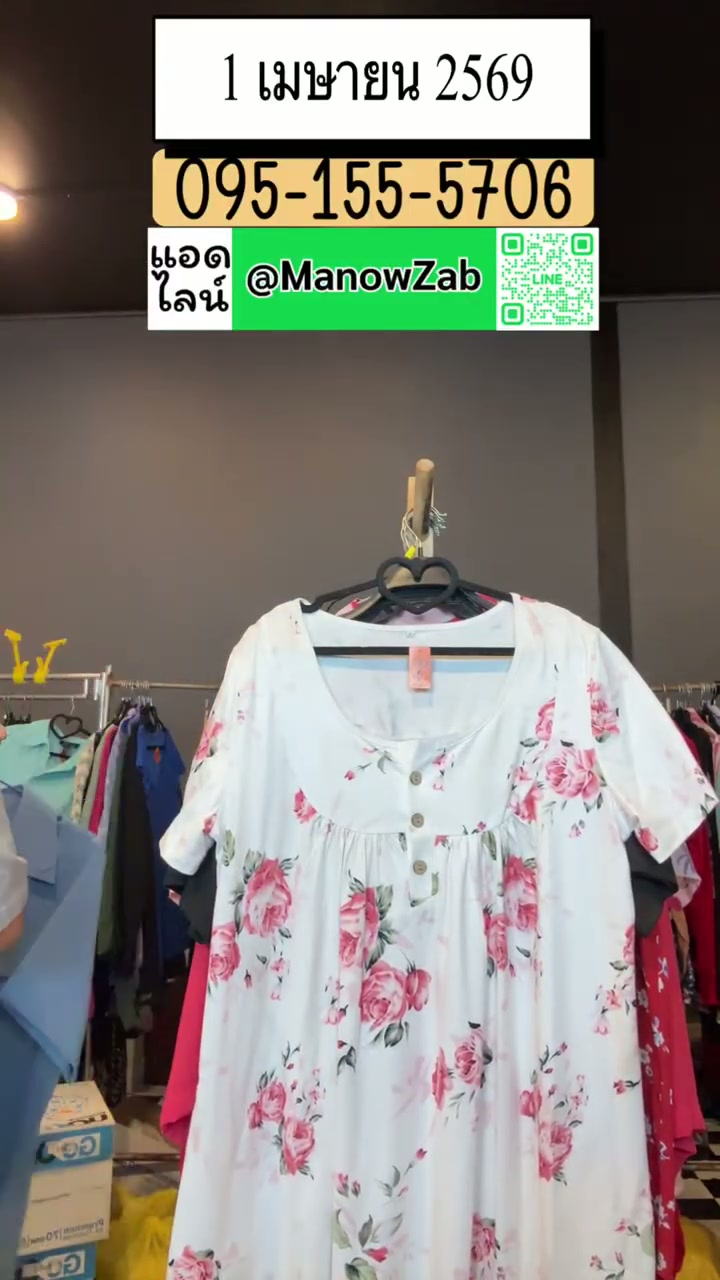display_shirt: (164, 596, 715, 1279)
